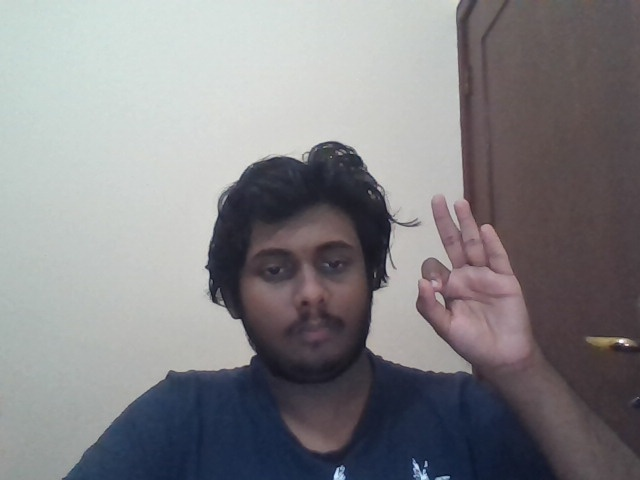ok: (417, 194, 536, 372)
